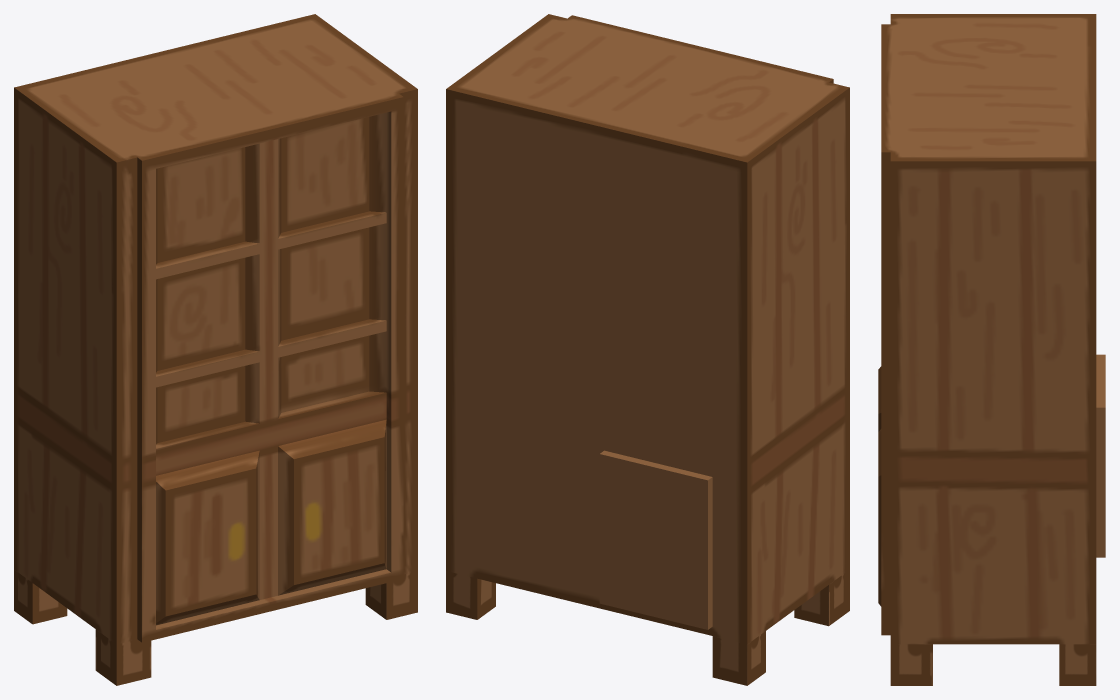
File: cabinet.fbx
3 views of the same model, side by side, from view 1: azimuth 30°, elevation 25°; view 2: azimuth 150°, elevation 25°; view 3: azimuth 270°, elevation 25° (orthographic).
Visible parts, largest first — view 1: pCube10; view 2: pCube10; view 3: pCube10.
Part boxes in pixels (x1,y1,x2,y2): pCube10: (14,14,417,685); pCube10: (446,14,849,685); pCube10: (878,14,1105,685).
Bounding box in the file's own units: 3.06 × 5.07 × 1.99.
